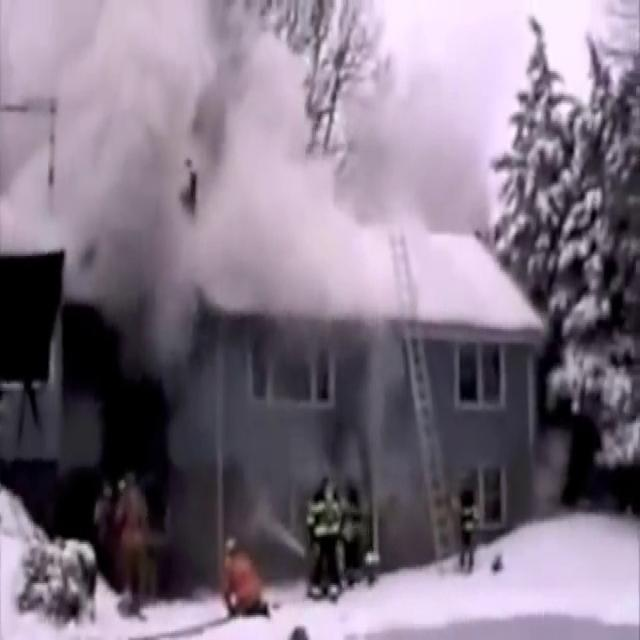Smoke: (11, 0, 333, 292), (143, 304, 440, 568), (339, 49, 502, 235)
